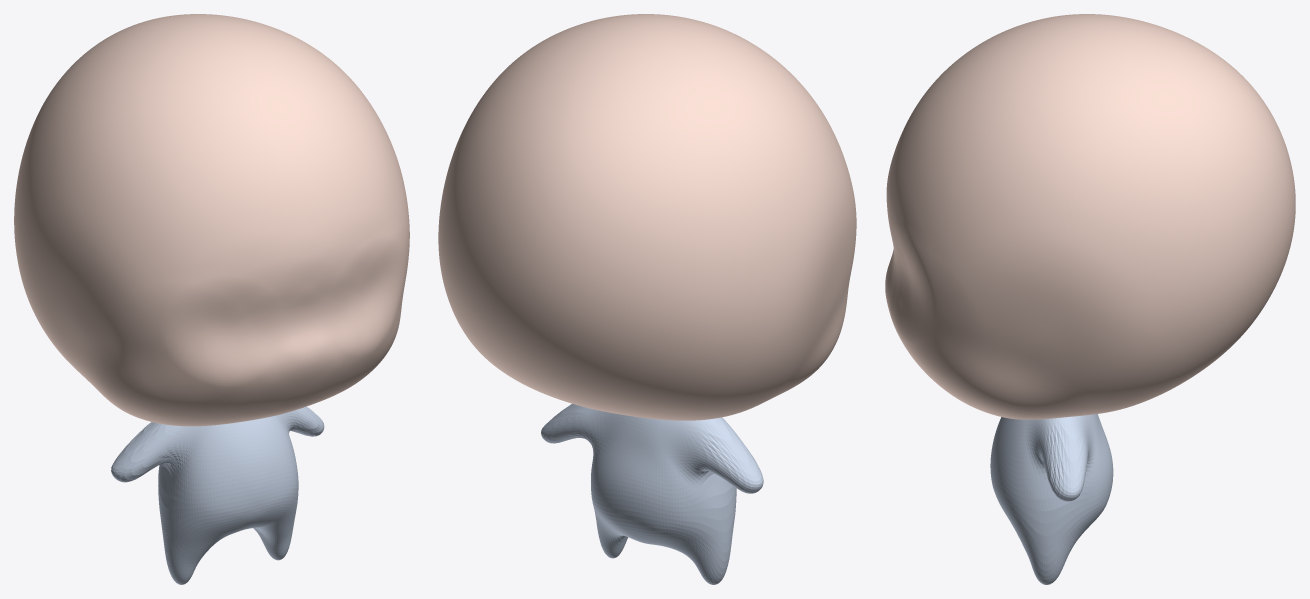
Rendered from character01.glb.
3 views of the same model, side by side, from view 1: azimuth 30°, elevation 25°; view 2: azimuth 150°, elevation 25°; view 3: azimuth 270°, elevation 25° (orthographic). The views are drawn at different scales.
Parts seen in each view (by area): view 1: 쿼드 구체 (×2); view 2: 쿼드 구체 (×2); view 3: 쿼드 구체 (×2).
Boxes of the visible parts, box(x1,y1,x2,y2) form: 쿼드 구체 (×2): box(14, 14, 409, 584); 쿼드 구체 (×2): box(438, 14, 856, 584); 쿼드 구체 (×2): box(885, 14, 1295, 584).
Size of the model in its own units: 0.8362 by 1.26 by 0.8859.
